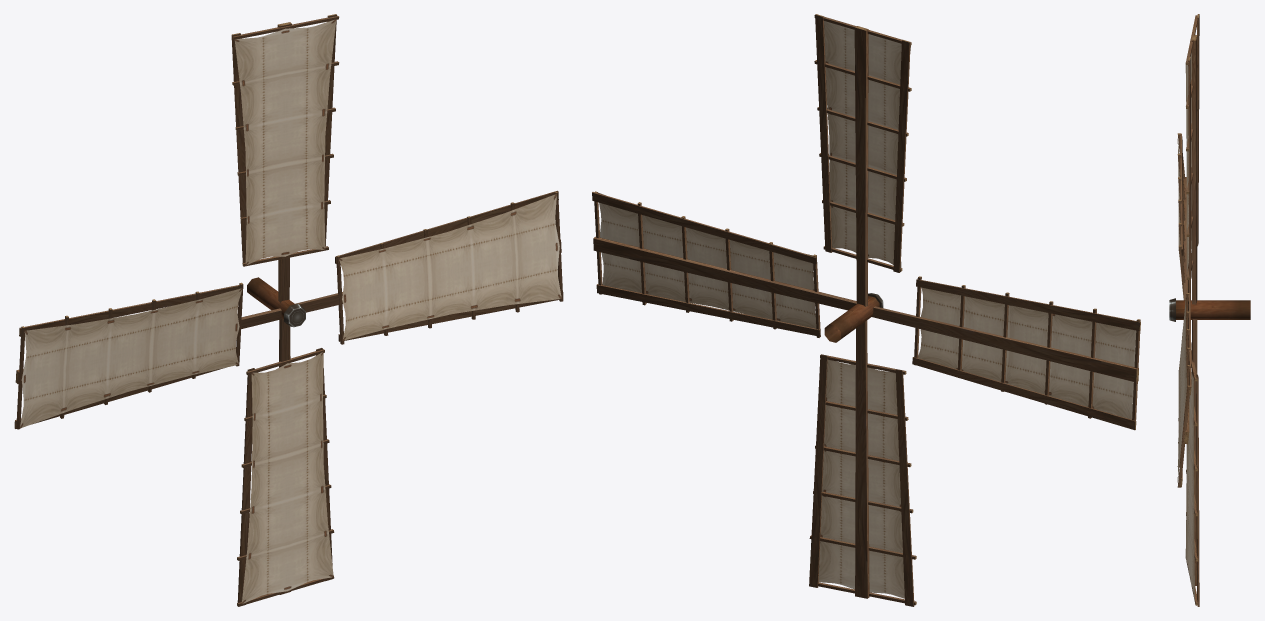
The model's file is fan (1).fbx.
3 views of the same model, side by side, from view 1: azimuth 30°, elevation 25°; view 2: azimuth 150°, elevation 25°; view 3: azimuth 270°, elevation 25° (orthographic). The views are drawn at different scales.
Visible parts, largest first — view 1: Windmill_blade_LOD0; view 2: Windmill_blade_LOD0; view 3: Windmill_blade_LOD0.
Part boxes in pixels (left/top/right/bottom): Windmill_blade_LOD0: left=14, top=14, right=563, bottom=606; Windmill_blade_LOD0: left=592, top=14, right=1140, bottom=606; Windmill_blade_LOD0: left=1169, top=14, right=1250, bottom=606.
Bounding box in the file's own units: 2549 × 2549 × 343.
Materials: 1 (1 with a texture image).
